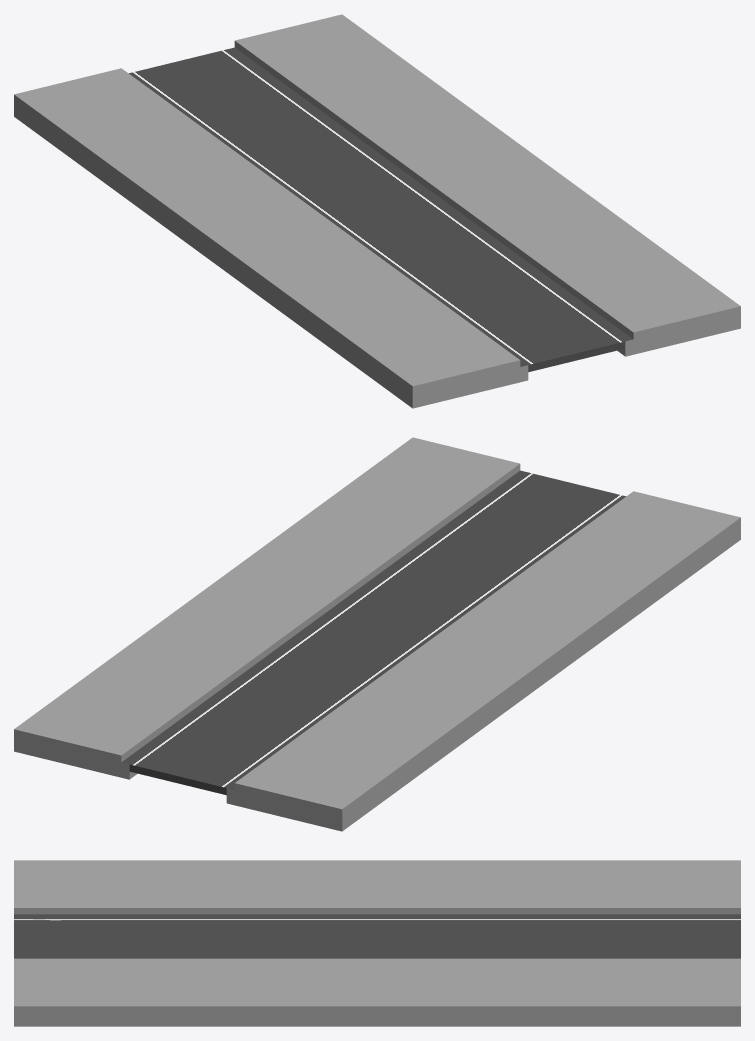
File: tile_road_1.fbx
3 renders of one model, top to bottom at view 1: azimuth 30°, elevation 25°; view 2: azimuth 150°, elevation 25°; view 3: azimuth 270°, elevation 25°, orthographic. The views are drawn at different scales.
Visible parts, largest first — view 1: sidewalk_L, sidewalk_R, road_1; view 2: sidewalk_L, sidewalk_R, road_1; view 3: sidewalk_R, sidewalk_L, road_1.
Boxes of the visible parts, box(x1,y1,x2,y2) form: sidewalk_L: box(14, 68, 528, 408); sidewalk_R: box(227, 14, 740, 356); road_1: box(130, 49, 625, 372); sidewalk_L: box(226, 491, 740, 831); sidewalk_R: box(14, 437, 527, 779); road_1: box(129, 472, 624, 795); sidewalk_R: box(14, 958, 740, 1026); sidewalk_L: box(14, 860, 740, 917); road_1: box(14, 918, 740, 958).
Bounding box in the file's own units: 1642 × 107 × 3455.
2 materials, 2 textured.
